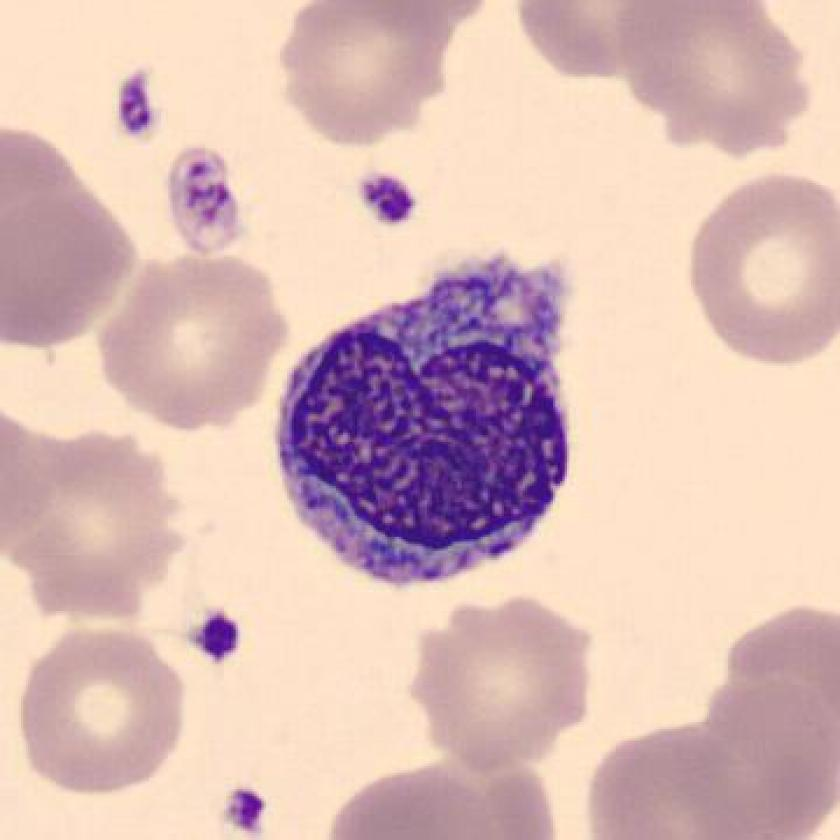monocyte: (253, 230, 603, 607)
